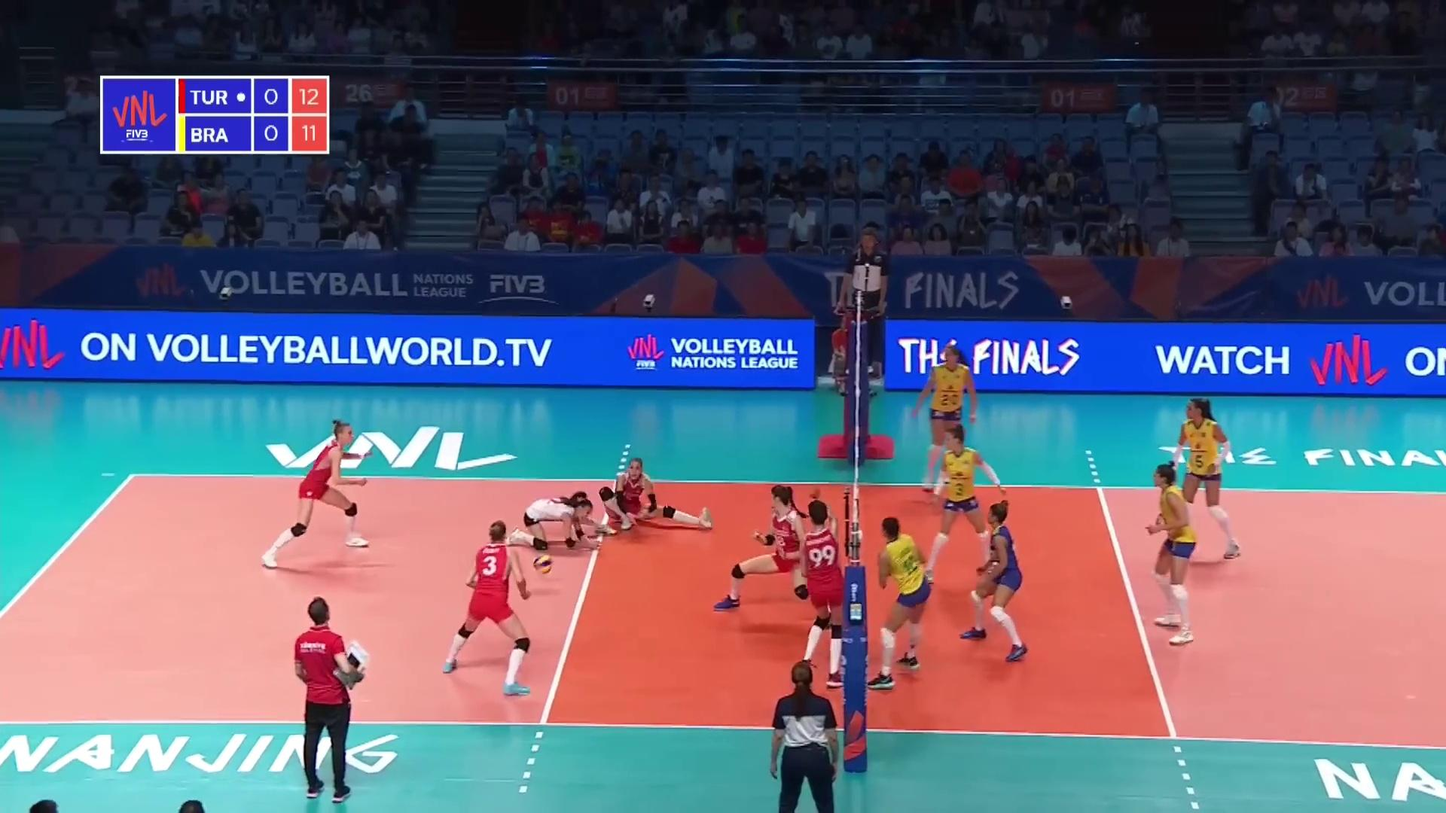player: (720, 486, 837, 626), (263, 420, 370, 563), (448, 521, 534, 690), (925, 426, 1006, 588), (1162, 398, 1236, 558), (792, 489, 846, 687), (600, 449, 718, 533), (871, 518, 928, 689), (966, 503, 1029, 657), (1146, 465, 1199, 645), (915, 347, 978, 489), (506, 491, 603, 552)
refree: (769, 661, 840, 813), (843, 228, 887, 369)
